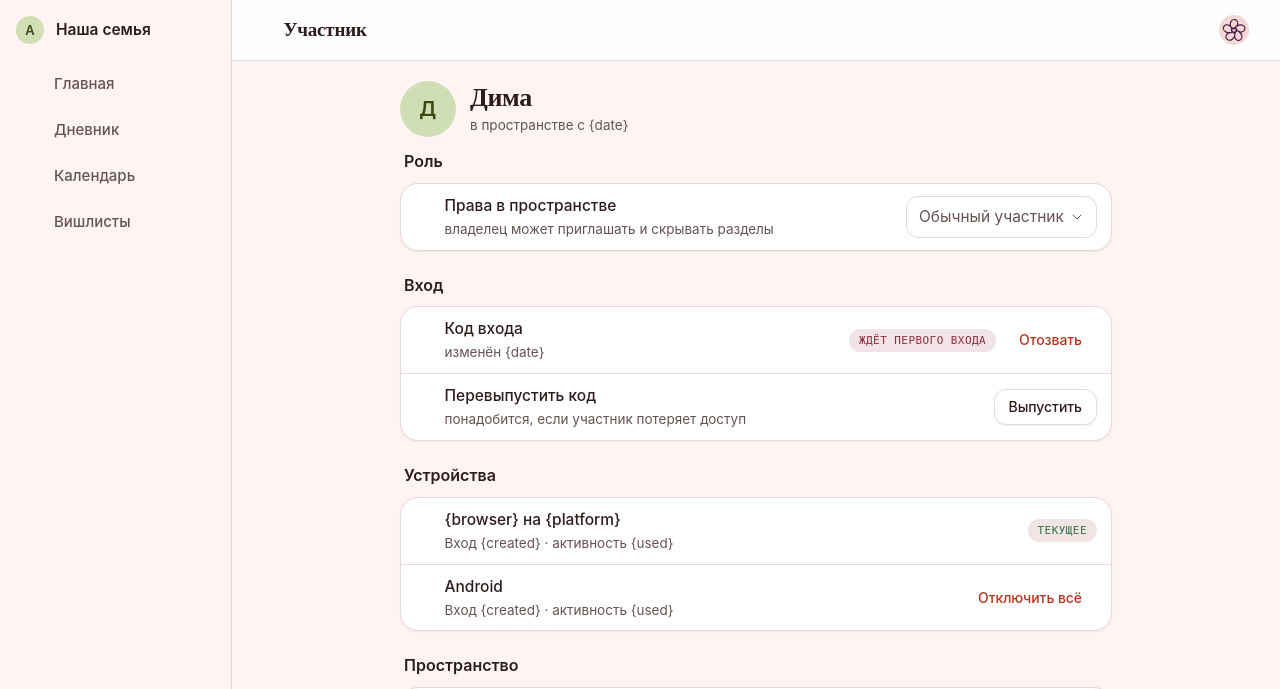
Test: MemberCardScreen › closes the revoke dialog on a refusal and keeps it on a lost network
Check: the text "Код входа" is shown, box [444,317,523,341]
Click the button "Отозвать" at (1051, 340), box [1004,322,1097,358]
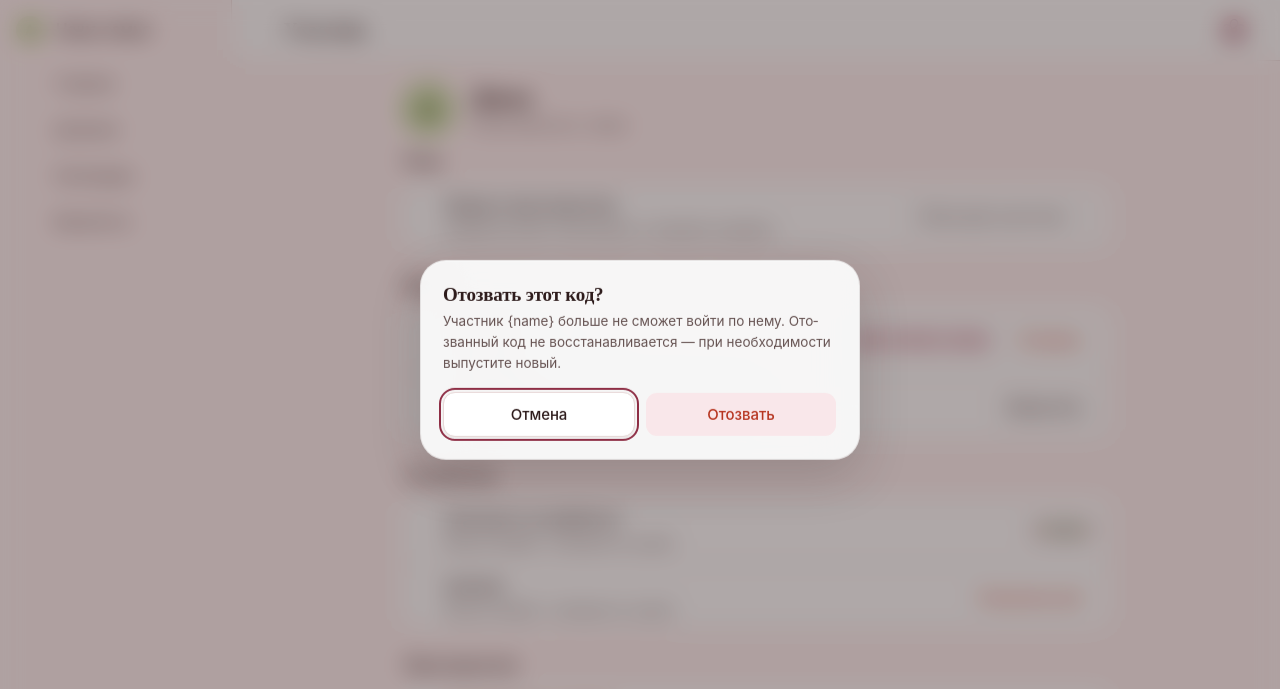
Click the button "Отозвать" at (741, 415), box [645,392,837,437]
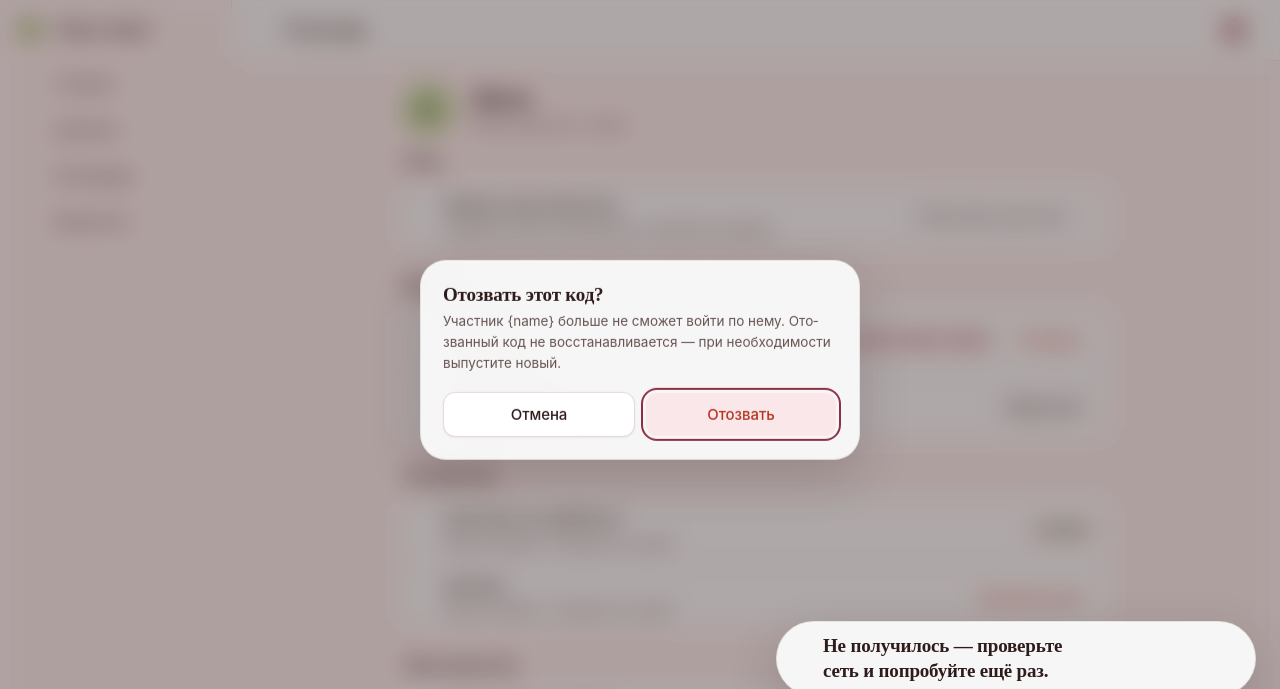
Check: the dialog "Отозвать этот код?" is shown, box [420,260,860,460]
Check: the heading "Не получилось — проверьте сеть и попробуйте ещё раз." is shown, box [823,635,1062,681]
Click the button "Отозвать" at (741, 415), box [645,392,837,437]
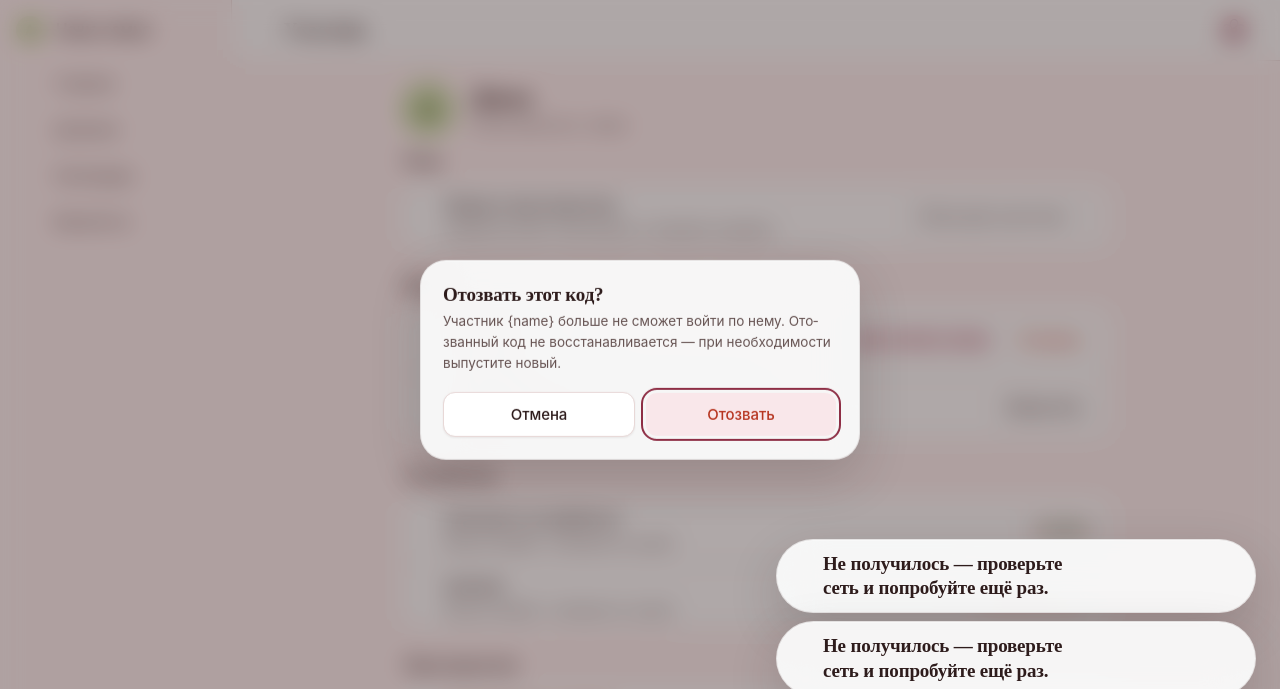
Check: the dialog "Отозвать этот код?" is shown, box [420,260,860,460]
Click the button "Отозвать" at (741, 415), box [645,392,837,437]
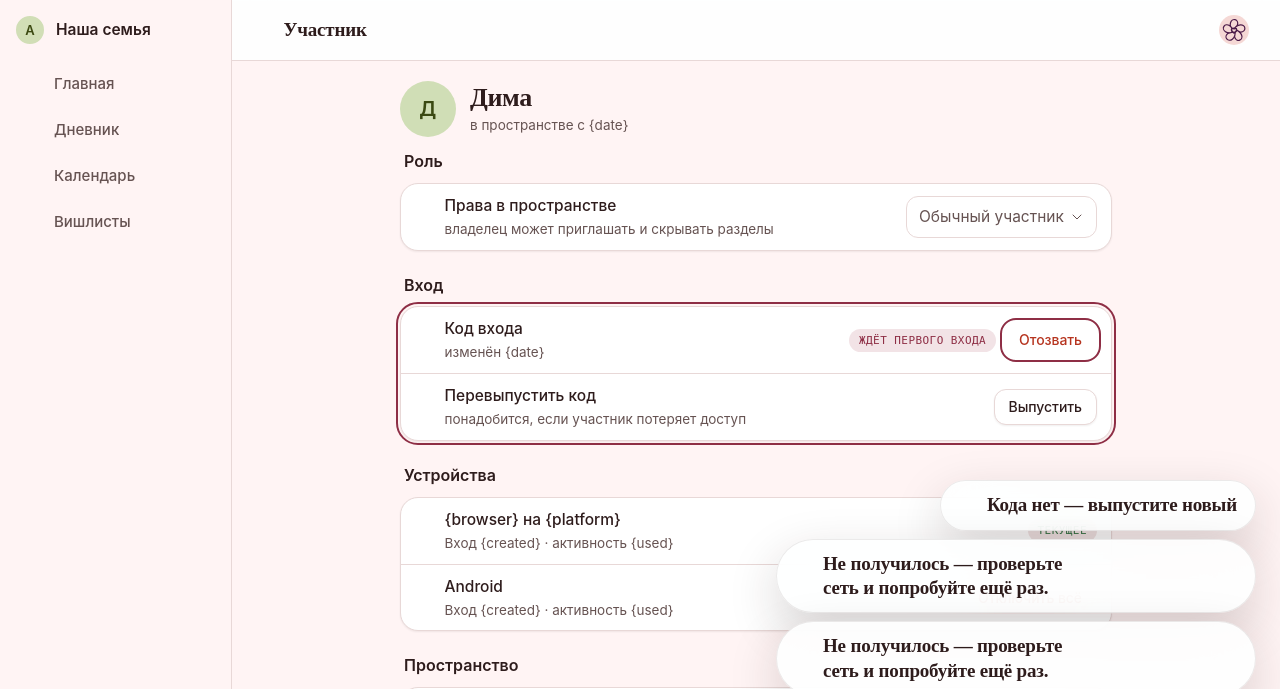
Check: the heading "Отозвать этот код?" is gone
Click the button "Отозвать" at (1051, 340), box [1004,322,1097,358]
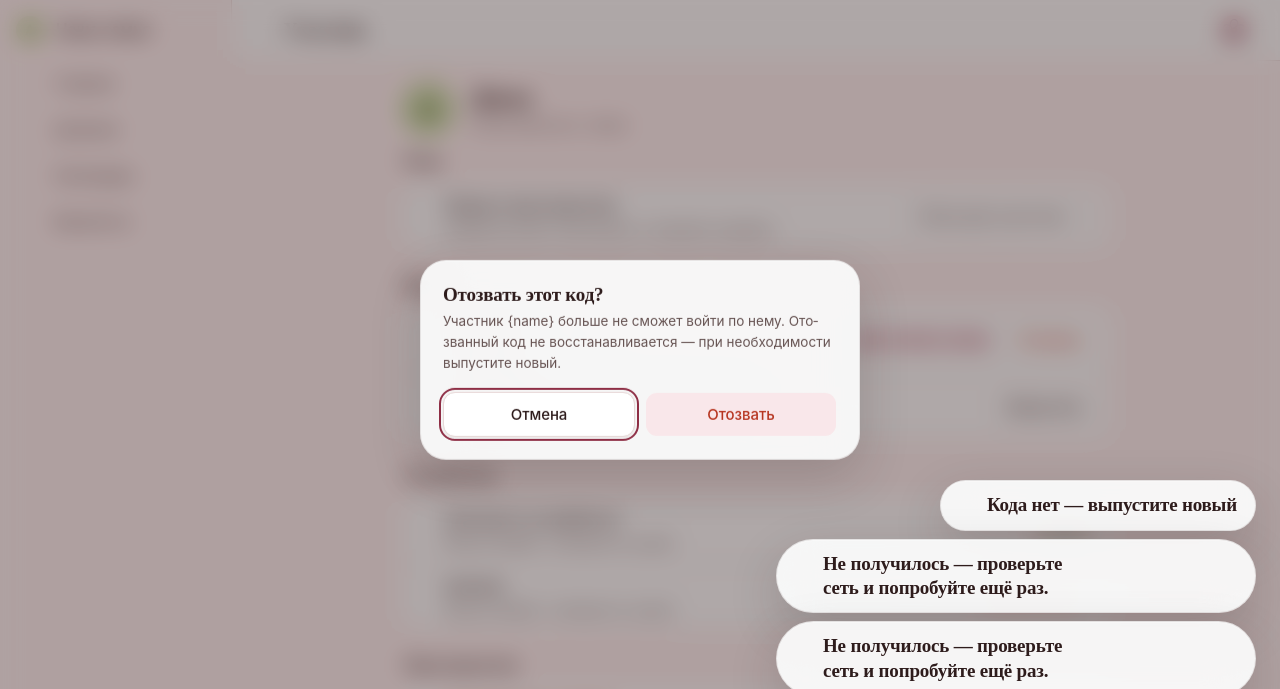
Click the button "Отозвать" at (741, 415), box [645,392,837,437]
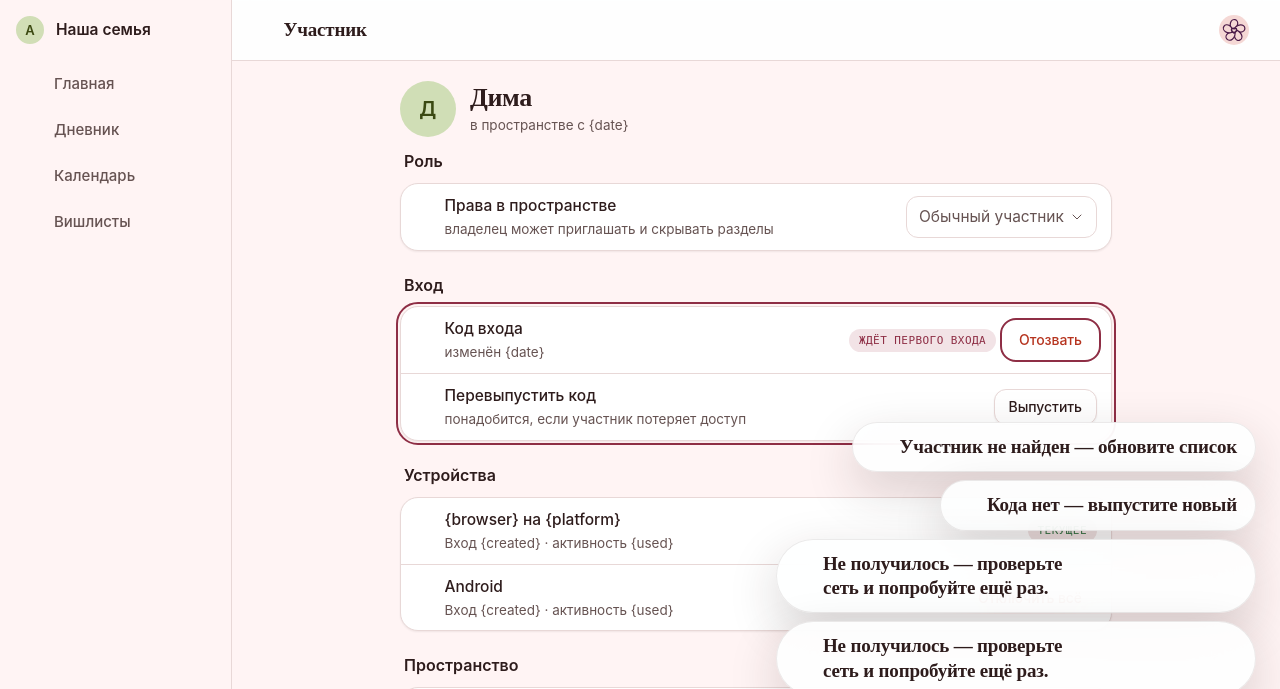
Check: the heading "Отозвать этот код?" is gone
